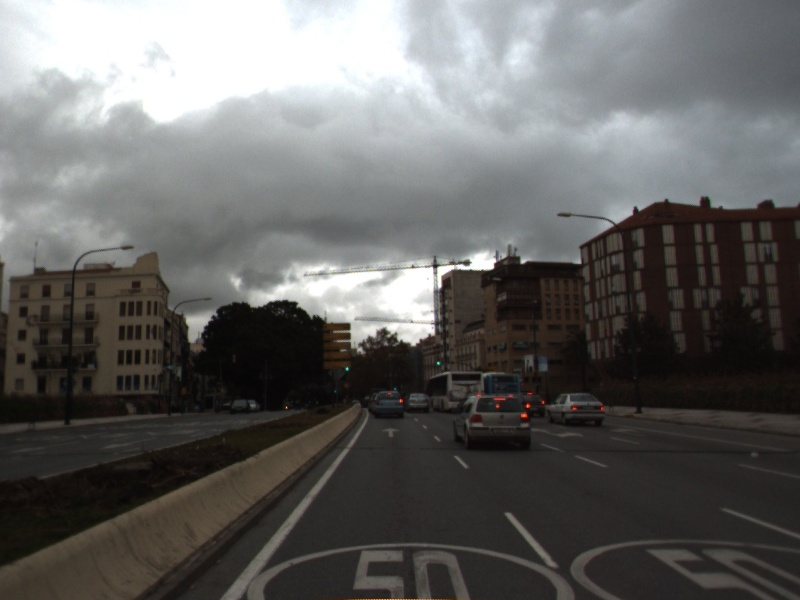RIGHT: (608, 425, 647, 439)
STRAIGHT: (379, 425, 402, 439)
STRAIGHT_RIGHT: (530, 426, 586, 441)
